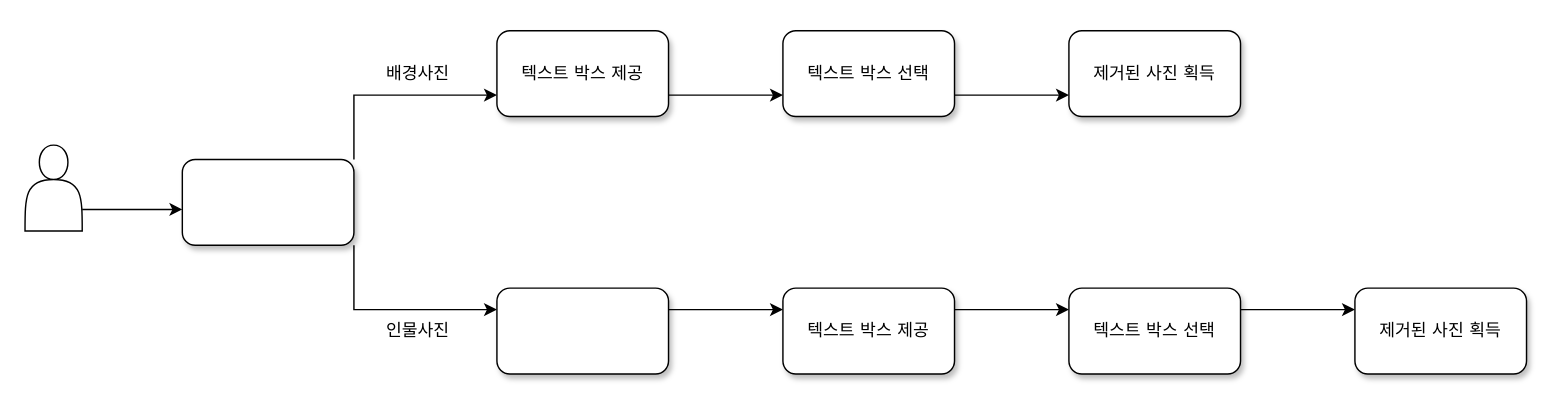
The diagram is 1560 pixels wide and 409 high, and some of its shapes have lost their labels. The shapes that lost their labels are listed below. From the top down, each one's centre as x and y in pixels, then its label:
[269,203]: 사진 제공
[583,332]: 인물이 제외된 사진 제공
